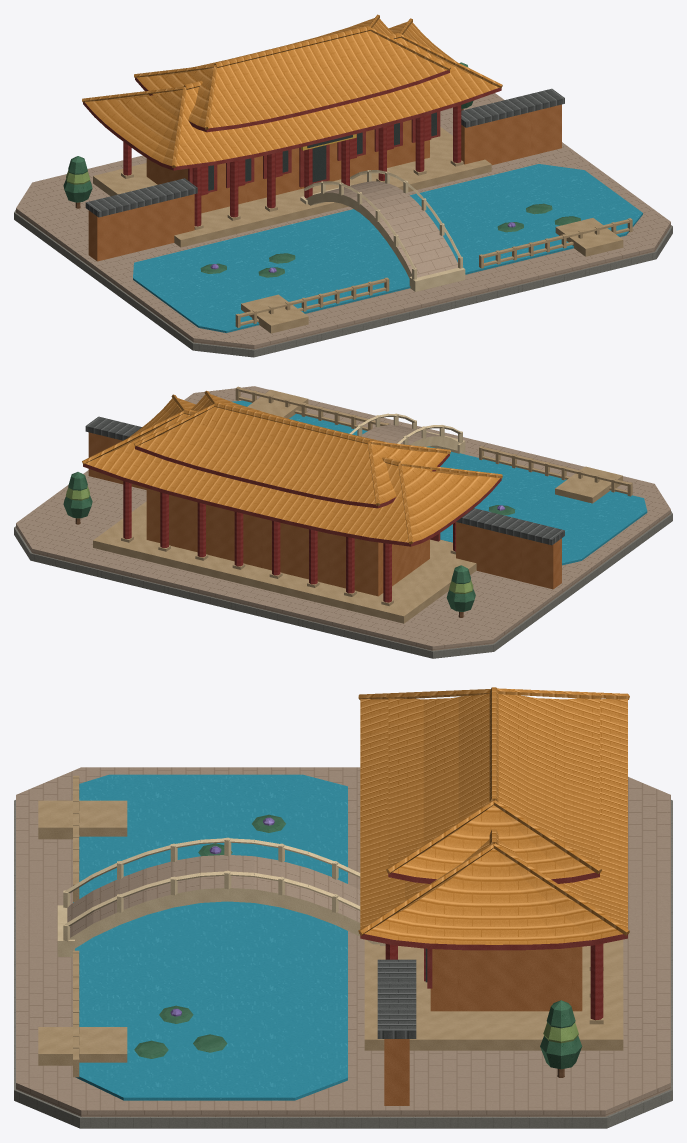
Rendered from putuo.glb.
3 renders of one model, top to bottom at view 1: azimuth 30°, elevation 25°; view 2: azimuth 150°, elevation 25°; view 3: azimuth 270°, elevation 25°, orthographic. The views are drawn at different scales.
Parts seen in each view (by area): view 1: 普陀山·普济禅寺; view 2: 普陀山·普济禅寺; view 3: 普陀山·普济禅寺.
Boxes of the visible parts, x1,y1,x2,y2 form: 普陀山·普济禅寺: (14, 14, 672, 357); 普陀山·普济禅寺: (14, 386, 672, 658); 普陀山·普济禅寺: (14, 687, 672, 1128).
Size of the model in its own units: 10.85 by 3.11 by 8.75.
16 materials, 16 textured.
